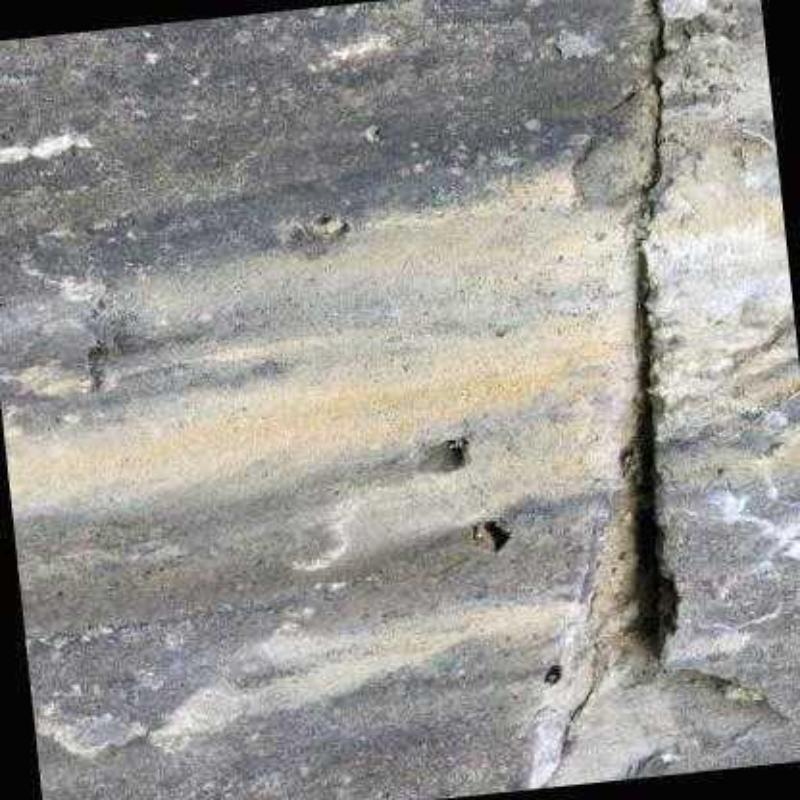pothole: (622, 0, 684, 676), (538, 688, 594, 788)
